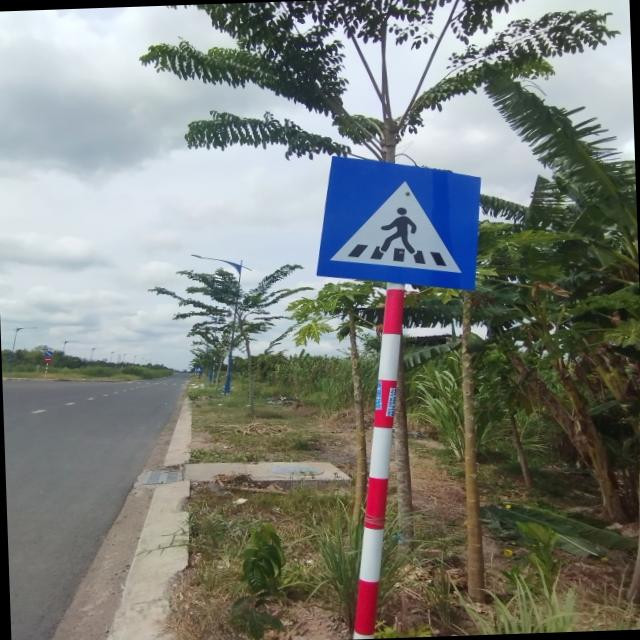Giao_Nhau_Duong_Uu_Tien: (312, 150, 486, 294)
